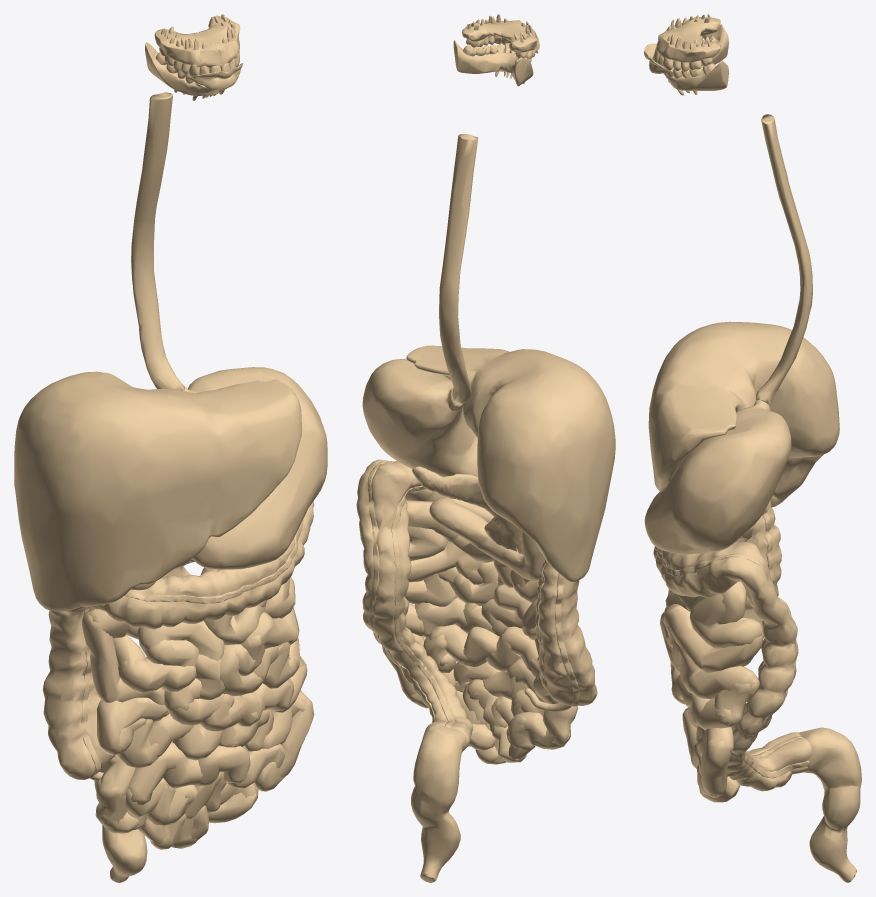
Rendered from digestorio.glb.
The picture shows the model from 3 angles, left to right: view 1: azimuth 30°, elevation 25°; view 2: azimuth 150°, elevation 25°; view 3: azimuth 270°, elevation 25°; orthographic projection. The views are drawn at different scales.
Visible parts, largest first — view 1: FMA7197, FMA7208, FMA7207, FMA14543nsn, FMA7148, FMA7131, FMA59763, FMA14544, FMA76892, FMA59764, FMA59815nsn, FMA76893; view 2: FMA7197, FMA14543nsn, FMA7208, FMA7207, FMA7148, FMA14544, FMA7131, FMA7206, FMA7198nsn, FMA76892, FMA76891, FMA59764 (+1 smaller); view 3: FMA7197, FMA7148, FMA14543nsn, FMA7207, FMA14544, FMA7131, FMA7208, FMA59763, FMA59764, FMA76892, FMA76891.
Boxes of the visible parts, x1,y1,x2,y2 form: FMA7197: [14, 371, 302, 611]; FMA7208: [95, 690, 314, 849]; FMA7207: [81, 577, 307, 731]; FMA14543nsn: [43, 501, 314, 779]; FMA7148: [183, 367, 327, 569]; FMA7131: [131, 92, 184, 390]; FMA59763: [154, 15, 240, 67]; FMA14544: [94, 763, 147, 882]; FMA76892: [50, 519, 303, 652]; FMA59764: [145, 42, 226, 95]; FMA59815nsn: [186, 63, 243, 89]; FMA76893: [81, 607, 100, 775]; FMA7197: [406, 345, 615, 581]; FMA14543nsn: [356, 459, 597, 748]; FMA7208: [382, 620, 585, 764]; FMA7207: [403, 499, 579, 637]; FMA7148: [362, 359, 477, 476]; FMA14544: [411, 724, 466, 882]; FMA7131: [439, 134, 478, 404]; FMA7206: [429, 497, 543, 580]; FMA7198nsn: [412, 466, 523, 554]; FMA76892: [368, 460, 579, 722]; FMA76891: [391, 485, 547, 728]; FMA59764: [453, 40, 533, 86]; FMA7197: [648, 321, 839, 507]; FMA7148: [644, 400, 791, 554]; FMA14543nsn: [653, 500, 811, 791]; FMA7207: [660, 581, 763, 729]; FMA14544: [799, 727, 861, 882]; FMA7131: [756, 114, 812, 406]; FMA7208: [682, 704, 740, 802]; FMA59763: [656, 17, 720, 62]; FMA59764: [665, 24, 728, 90]; FMA76892: [654, 546, 809, 778]; FMA76891: [741, 507, 802, 758].
Bounding box in the file's own units: 0.2321 × 0.7391 × 0.1709.
